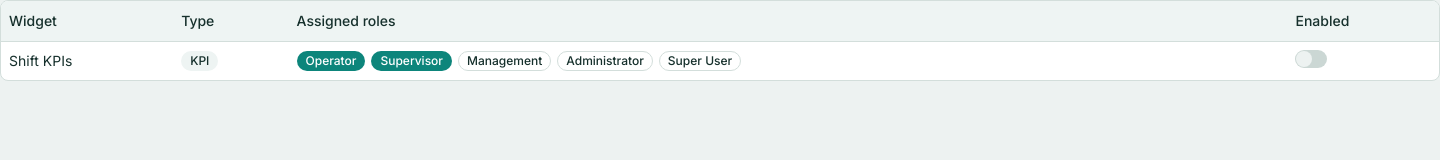
DashboardWidgetsTable › toggles the enabled switch, sending the current role assignment along with it
The image size is (1440, 160).
Click the switch named "Shift KPIs enabled" at (1312, 59), box 1296,50 -> 1328,68
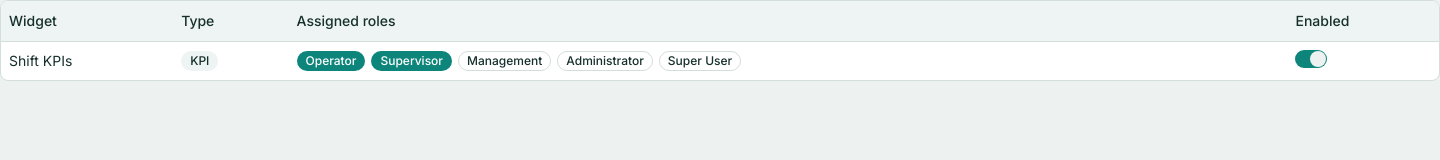
Expected: the switch named "Shift KPIs enabled" is checked, 1296,50 -> 1328,68
